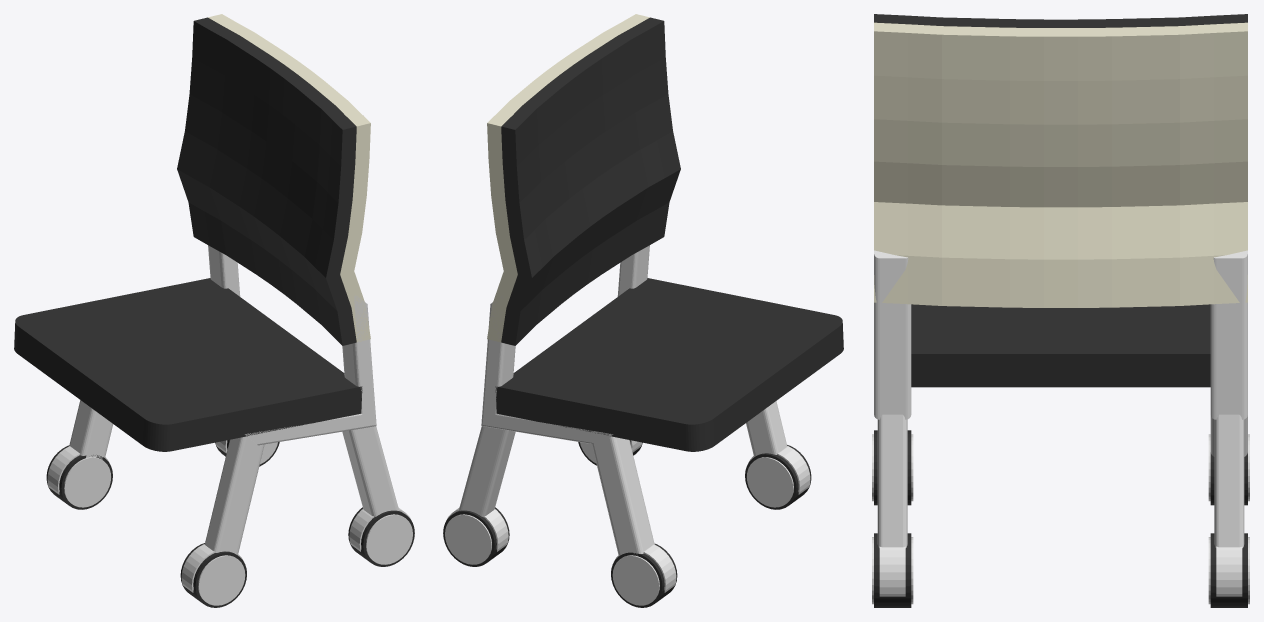
3 renders of one model, left to right at view 1: azimuth 30°, elevation 25°; view 2: azimuth 150°, elevation 25°; view 3: azimuth 270°, elevation 25°, orthographic. The views are drawn at different scales.
Parts seen in each view (by area): view 1: Cube.006, Cube.016, Cube.014, Cube.010, Cylinder.005, Cylinder.004, Cube.015, Cylinder.006, Cube.011, Cube.009; view 2: Cube.006, Cube.016, Cube.011, Cube.009, Cylinder.005, Cylinder.004, Cube.013, Cylinder.007, Cube.014, Cube.010; view 3: Cube.006, Cube.016, Cube.009, Cube.010, Cube.013, Cube.015, Cylinder.006, Cylinder.007, Cylinder.005, Cylinder.004.
Part boxes in pixels (box(x1,y1,x2,y2)): Cube.006: box(177, 14, 370, 345); Cube.016: box(14, 278, 362, 451); Cube.014: box(204, 436, 264, 555); Cube.010: box(245, 295, 376, 445); Cylinder.005: box(180, 543, 246, 607); Cylinder.004: box(46, 445, 112, 509); Cube.015: box(342, 426, 398, 517); Cylinder.006: box(348, 507, 414, 566); Cube.011: box(69, 400, 113, 459); Cube.009: box(208, 245, 240, 296); Cube.006: box(487, 14, 680, 345); Cube.016: box(495, 278, 843, 451); Cube.011: box(592, 436, 654, 555); Cube.009: box(481, 295, 613, 444); Cylinder.005: box(745, 445, 811, 509); Cylinder.004: box(611, 543, 677, 607); Cube.013: box(459, 426, 515, 517); Cylinder.007: box(443, 507, 509, 566); Cube.014: box(746, 401, 787, 456); Cube.010: box(617, 245, 649, 296); Cube.006: box(874, 14, 1247, 307); Cube.016: box(911, 304, 1210, 387); Cube.009: box(1210, 250, 1247, 419); Cube.010: box(874, 250, 911, 419); Cube.013: box(1214, 414, 1244, 547); Cube.015: box(877, 414, 907, 547); Cylinder.006: box(872, 533, 913, 607); Cylinder.007: box(1208, 533, 1249, 607); Cylinder.005: box(872, 430, 913, 505); Cylinder.004: box(1208, 434, 1249, 505).
Size of the model in its own units: 10.12 by 16.58 by 10.1.
